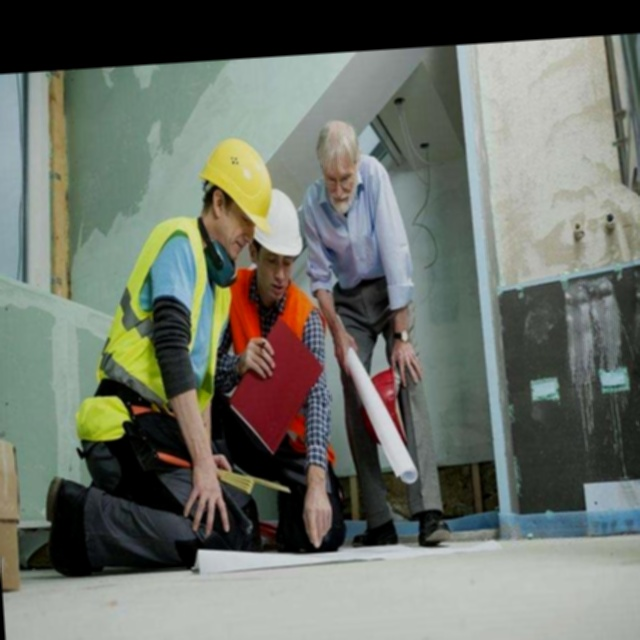Con_Casco: (200, 136, 270, 260)
Sin_Casco_Mascarrilla: (315, 116, 366, 206)
